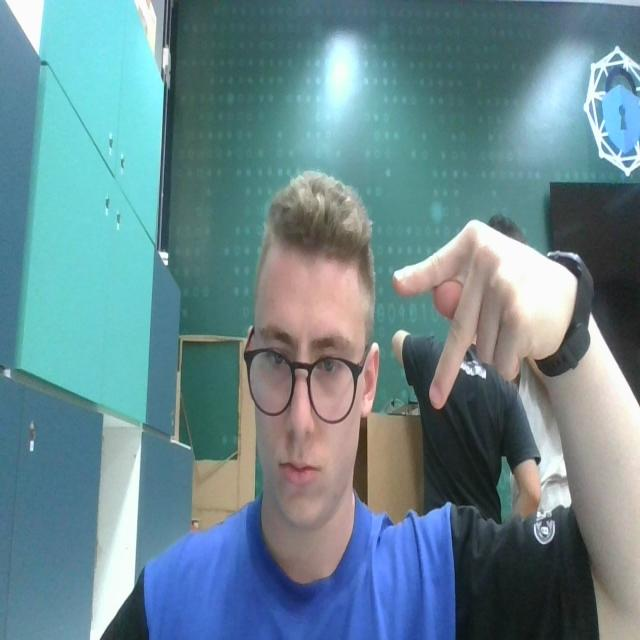P: (392, 218, 555, 410)
